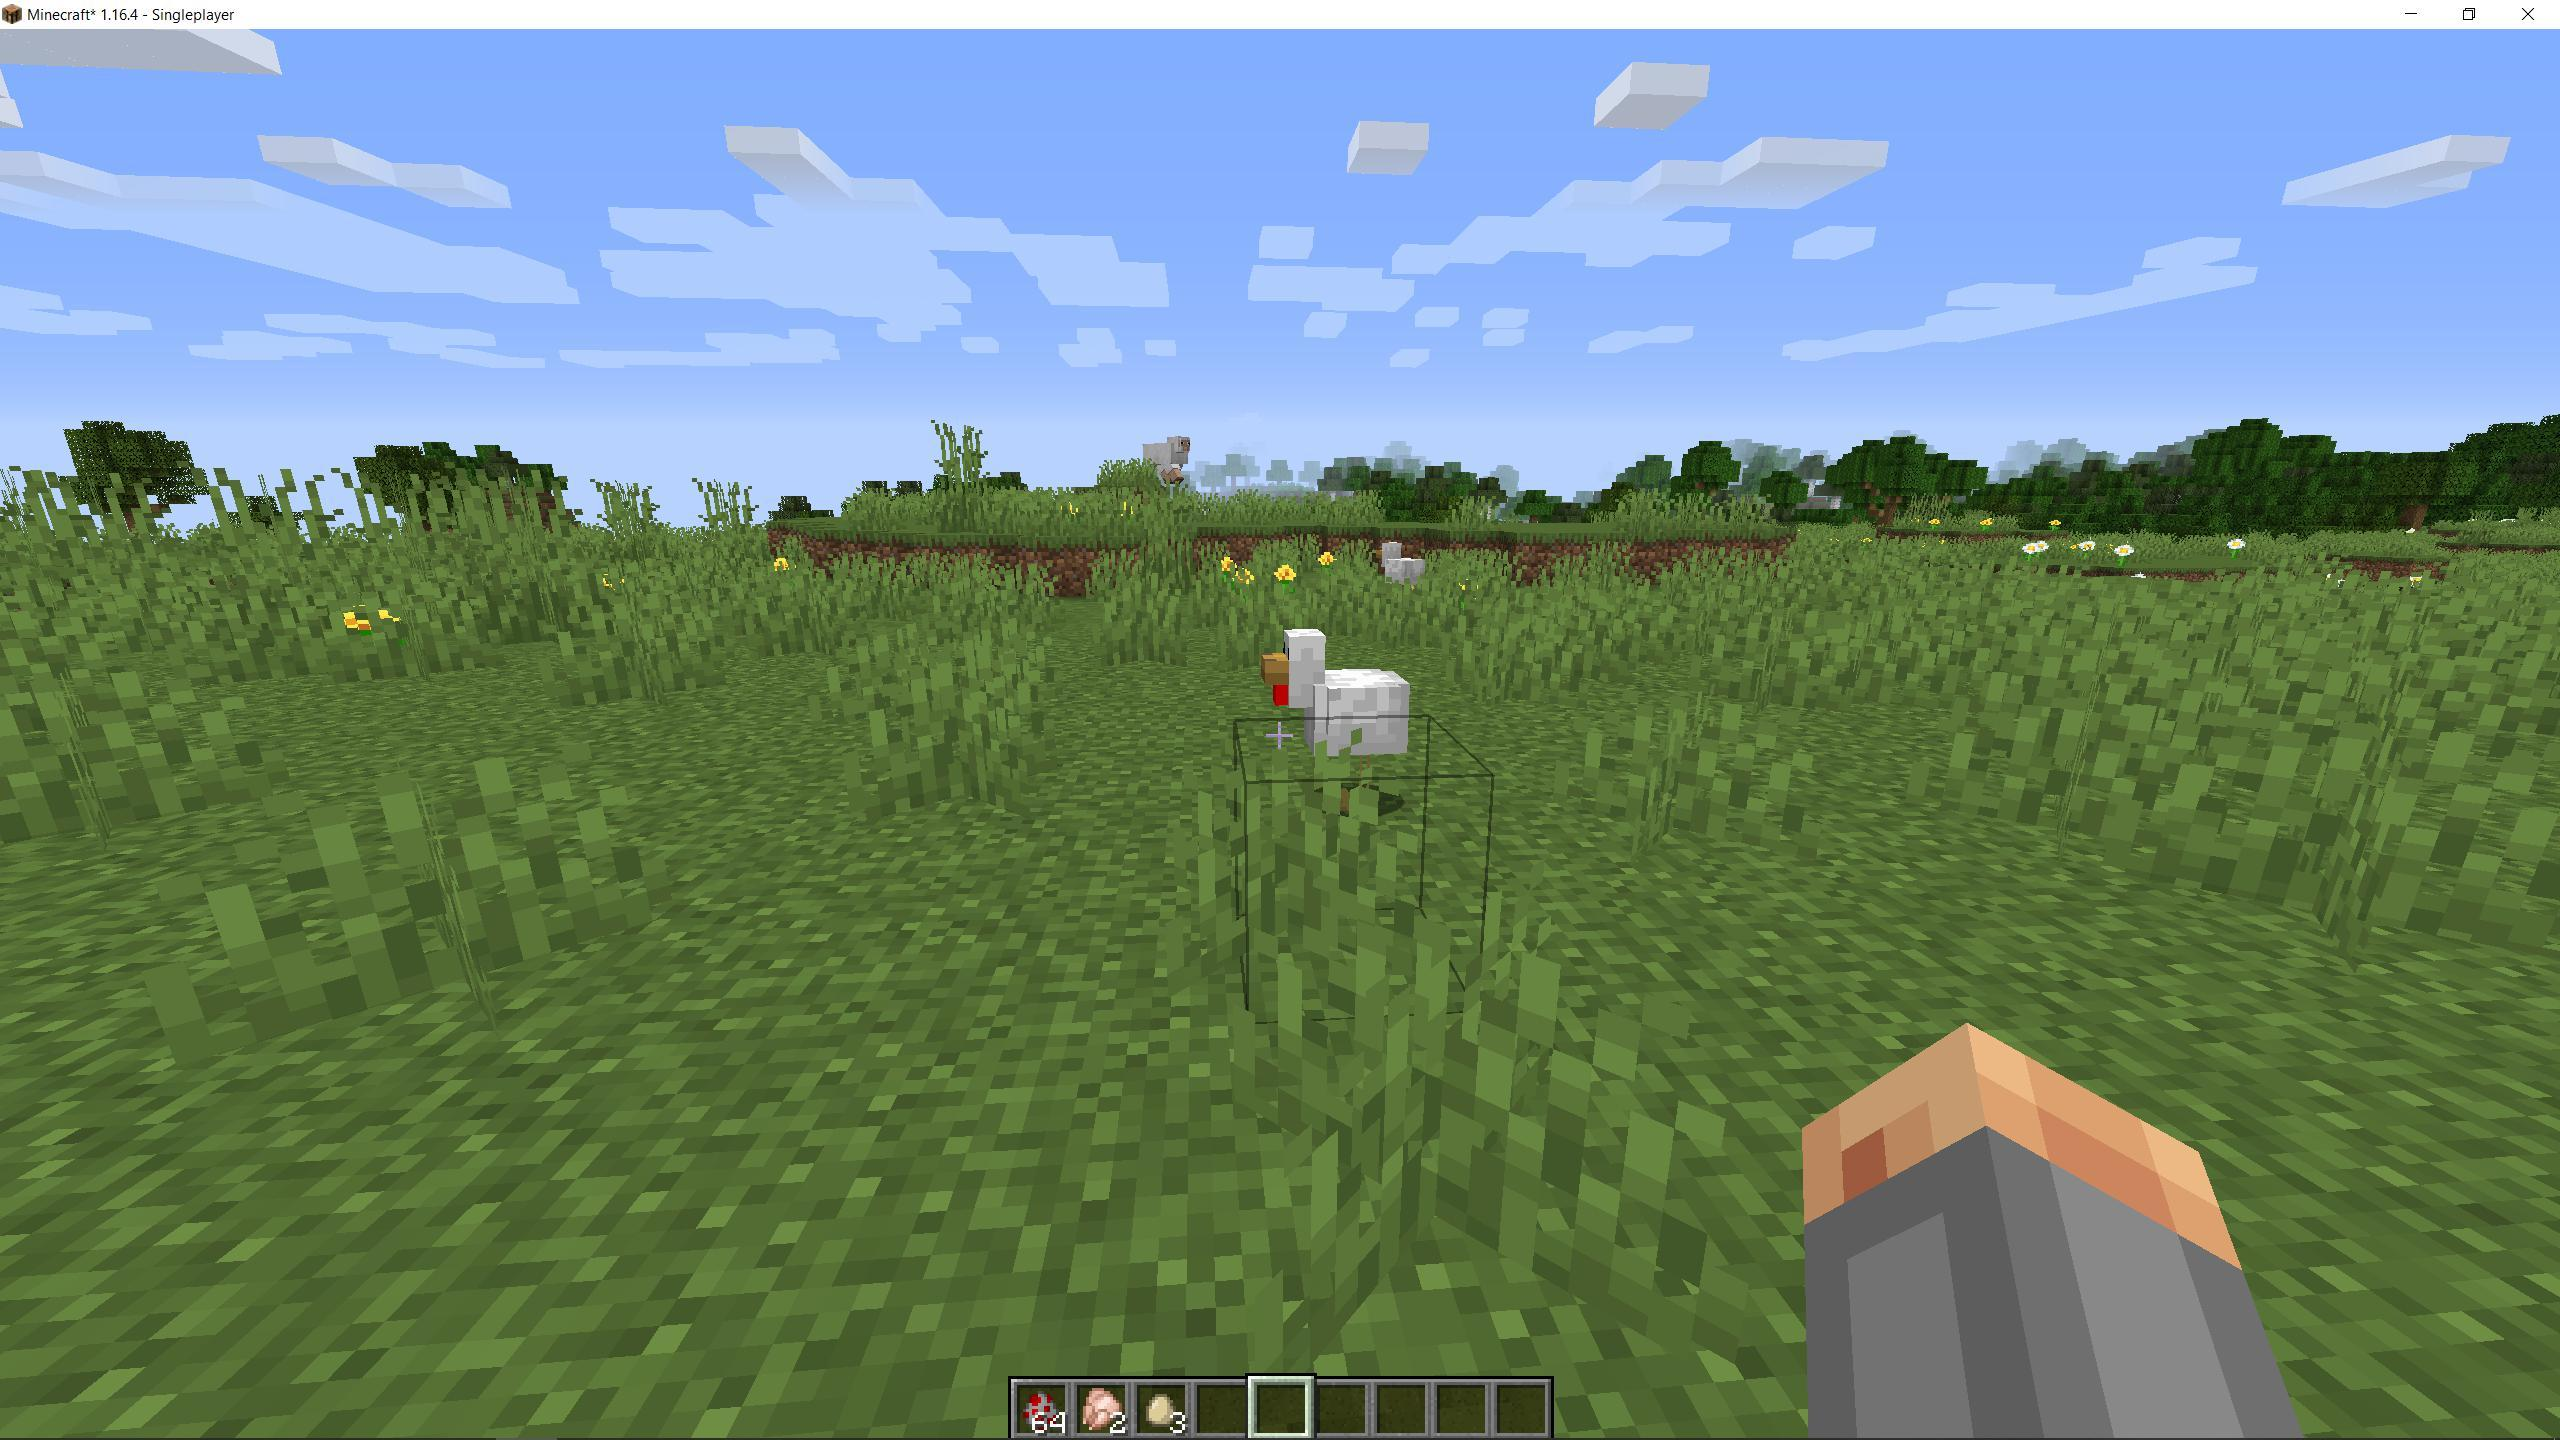chicken: (1254, 617, 1435, 816), (1364, 542, 1444, 617)
